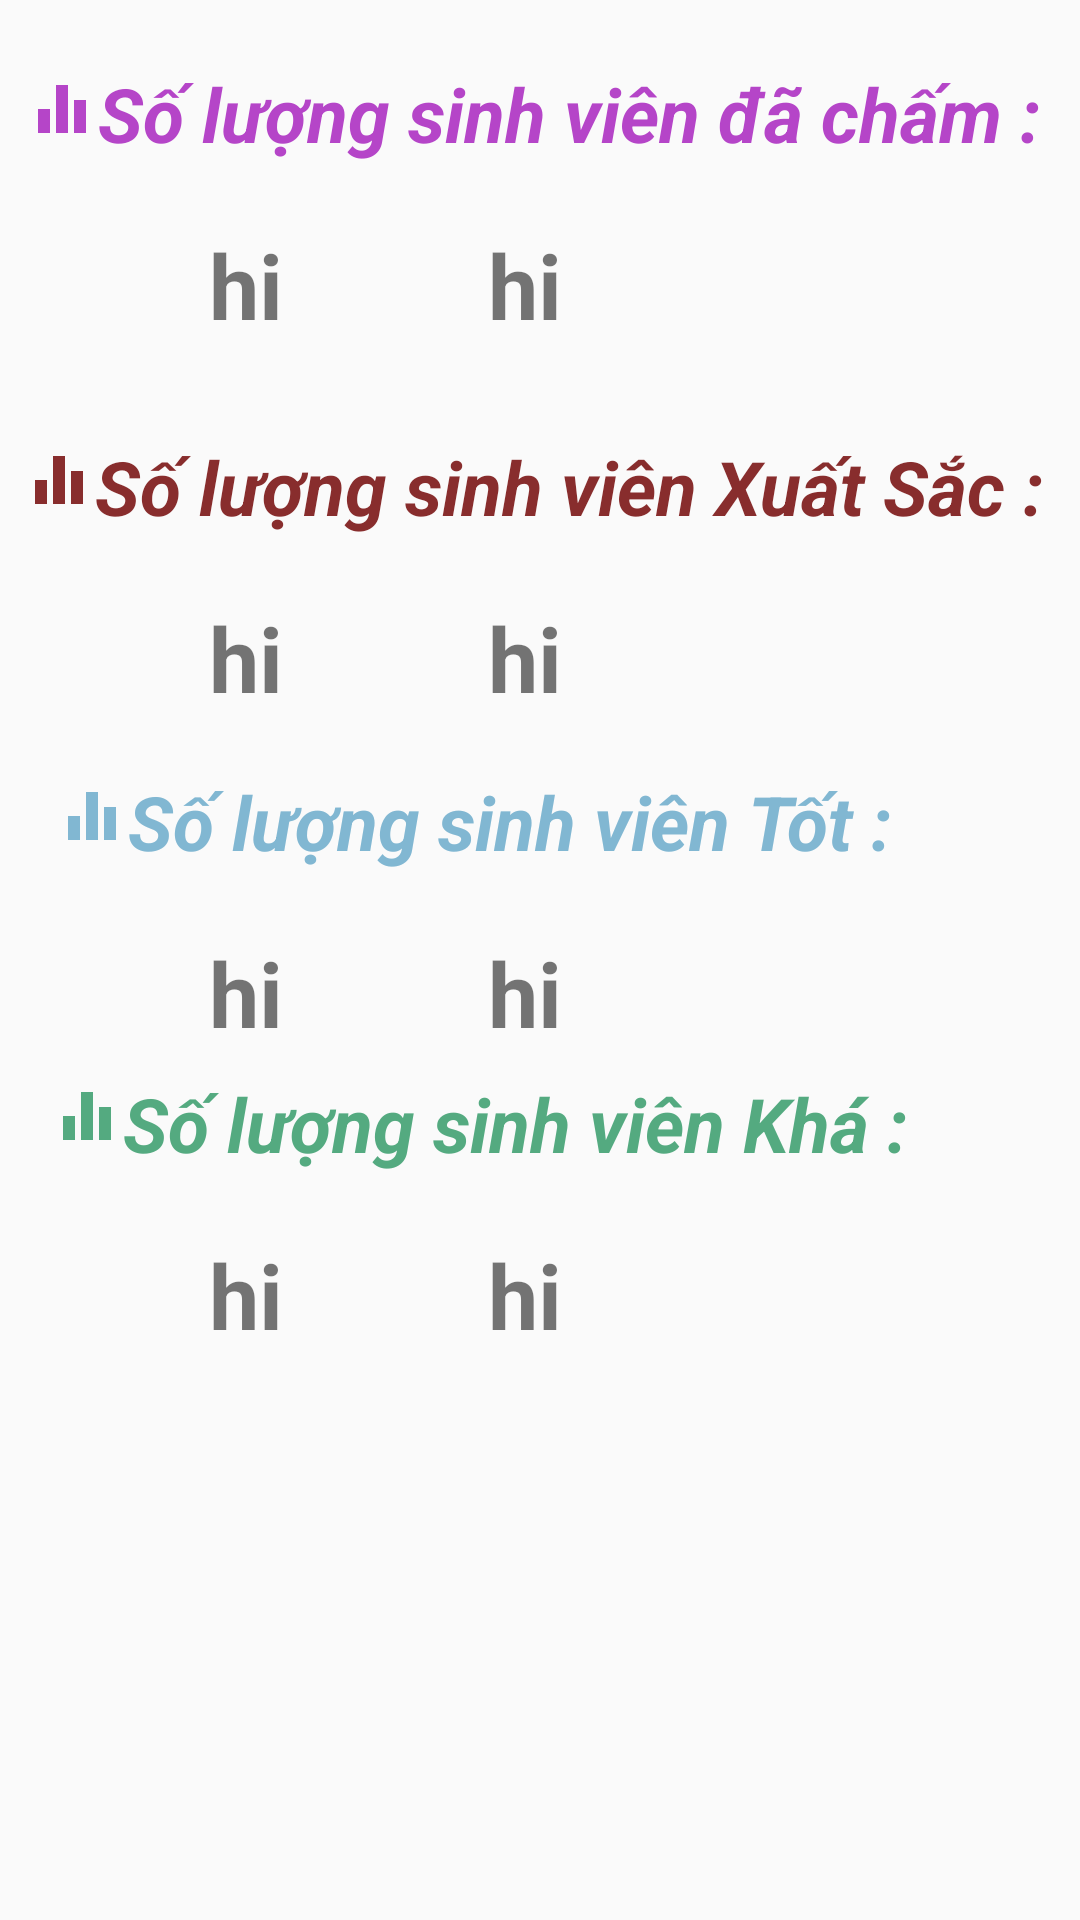

Where to tap for icons on this 1080x1920 app screen, as (x=x, y=y):
equalizer: (x=62, y=109)
equalizer la: (x=87, y=1116)
equalizer nau: (x=59, y=480)
equalizer xanh: (x=92, y=816)
